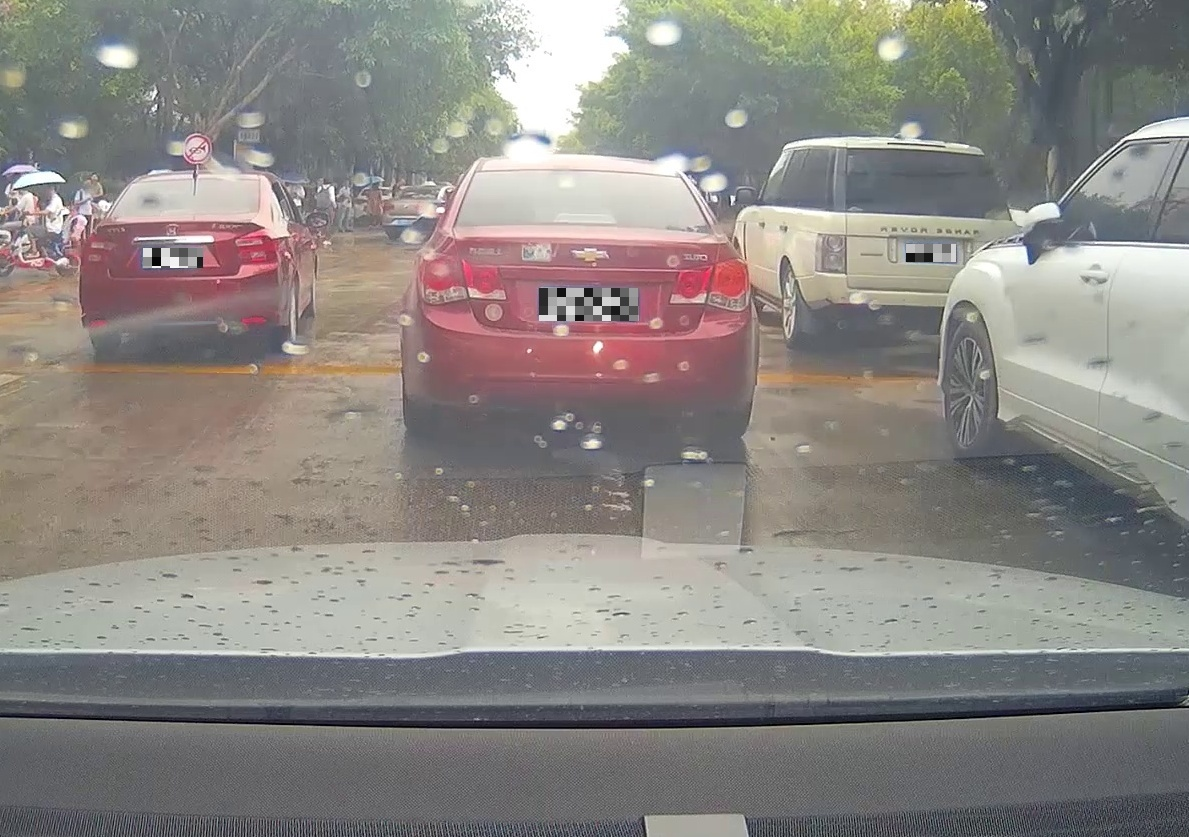L_light: (416, 251, 504, 303), (83, 235, 116, 263)
R_light: (669, 258, 750, 310), (235, 228, 279, 261)
T_light: (557, 214, 614, 223), (184, 179, 205, 183)
day-no: (401, 161, 758, 437), (80, 176, 281, 353)
plate_1: (143, 248, 203, 268)
plate_2: (539, 288, 639, 321)
plate_3: (906, 244, 956, 262)
